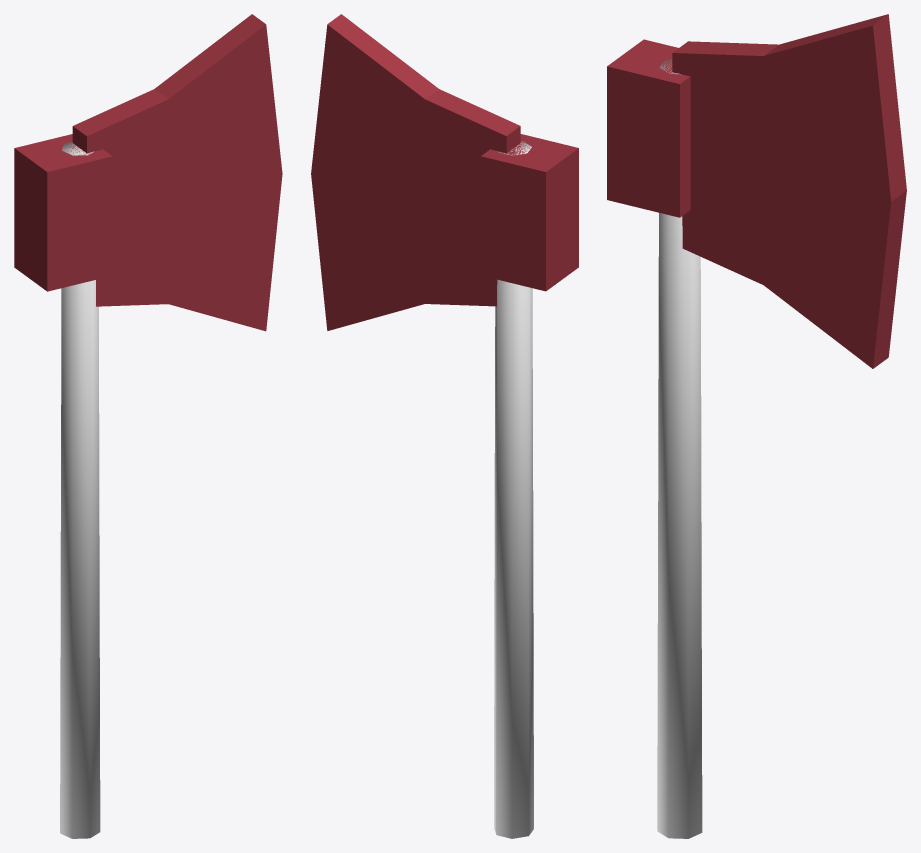
File: sanguite_axe.glb
3 renders of one model, left to right at view 1: azimuth 30°, elevation 25°; view 2: azimuth 150°, elevation 25°; view 3: azimuth 330°, elevation 25°, orthographic. The views are drawn at different scales.
Parts seen in each view (by area): view 1: sanguite_axe_v0; view 2: sanguite_axe_v0; view 3: sanguite_axe_v0.
Part boxes in pixels (<box>): sanguite_axe_v0: <box>14,14,282,838</box>; sanguite_axe_v0: <box>311,14,578,838</box>; sanguite_axe_v0: <box>607,14,906,838</box>.
Size of the model in its own units: 0.3 by 0.9 by 0.07.
